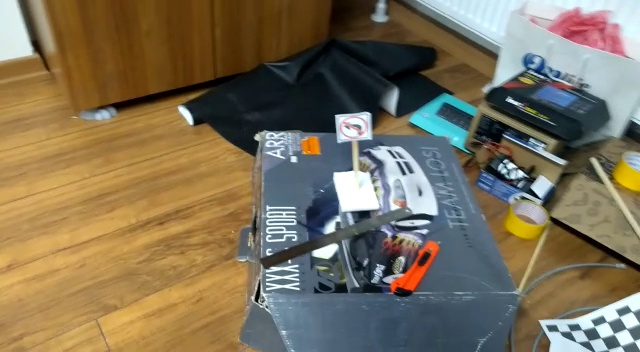sola_donulmez: (338, 114, 370, 142)
